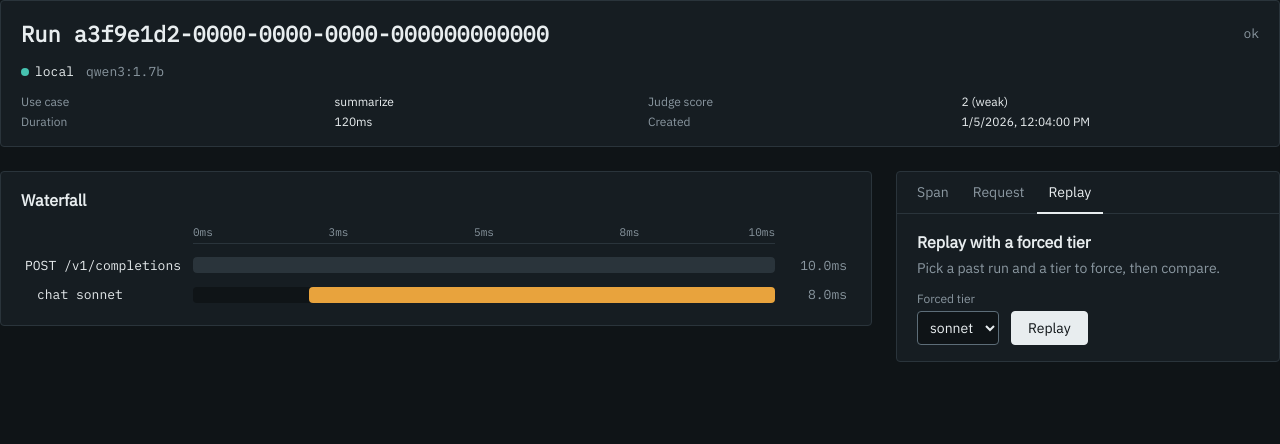
Scenario: RunWaterfallPage › trace view › opens a span in the inspector's Span tab, and Escape closes it again
The image size is (1280, 444).
Click the text "chat sonnet".
click(80, 294)  # box [37,286,123,303]
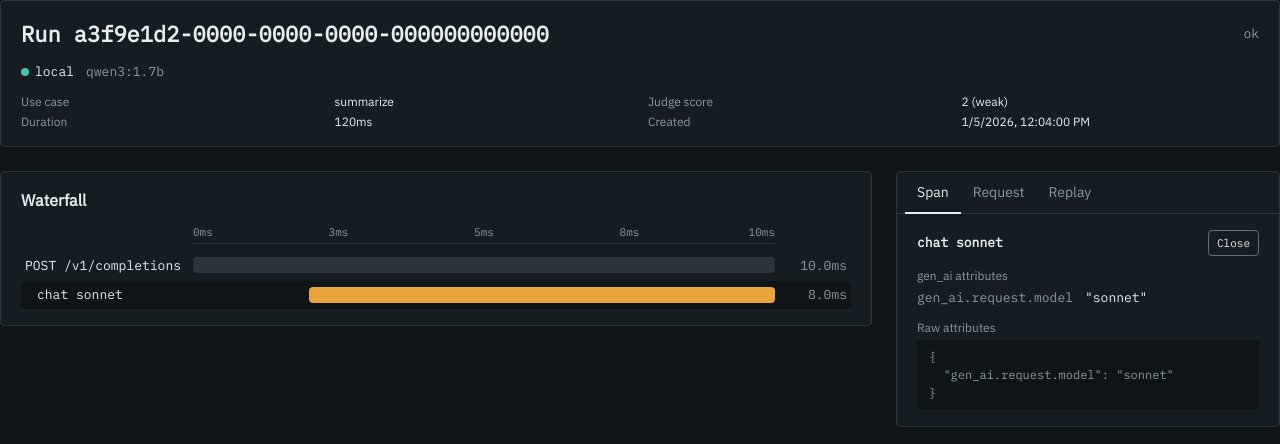
Now the element named "Attributes for chat sonnet" is shown, box [917,230,1259,410]
Press Escape
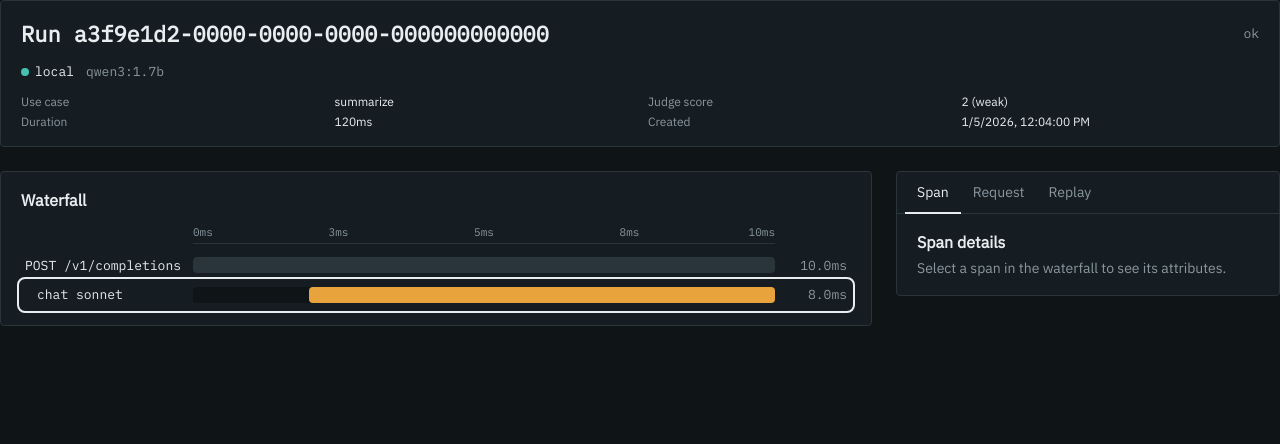
Now the text "Select a span in the waterfall to see its attributes." is shown, box [917,258,1259,278]
